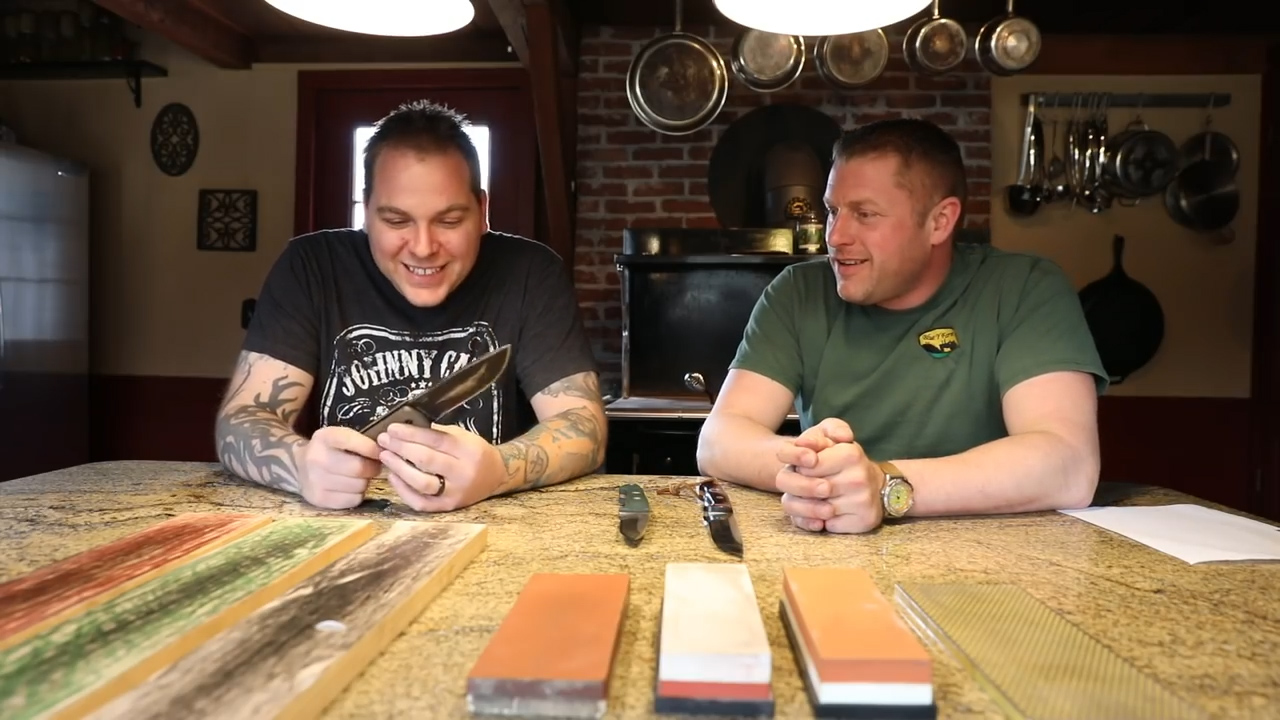knife: (339, 326, 525, 468)
